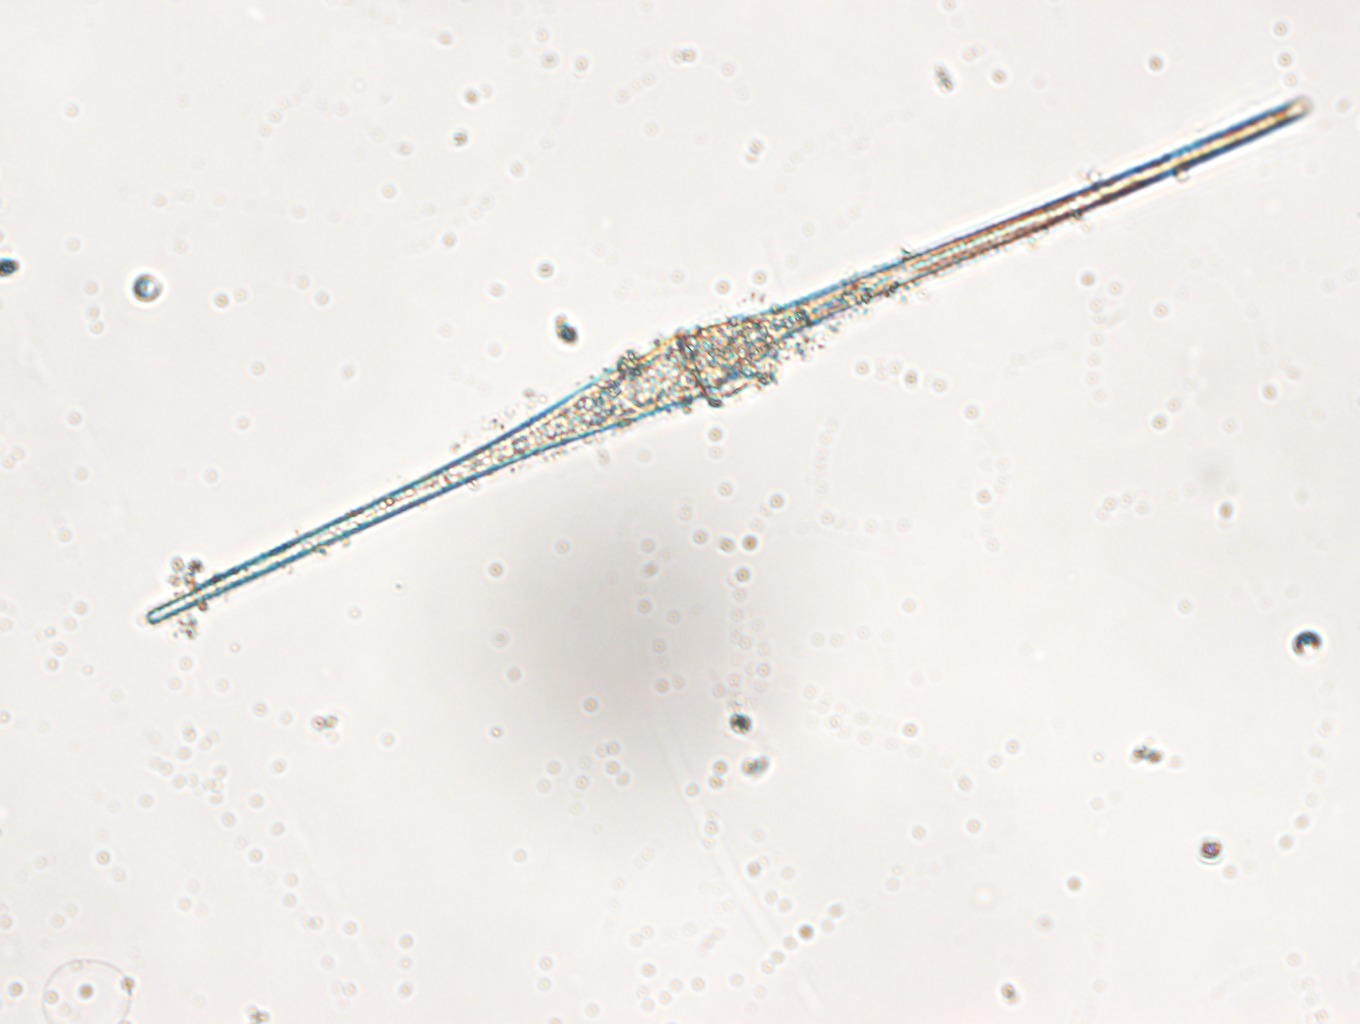ceratium fusus: (141, 89, 1313, 627)
